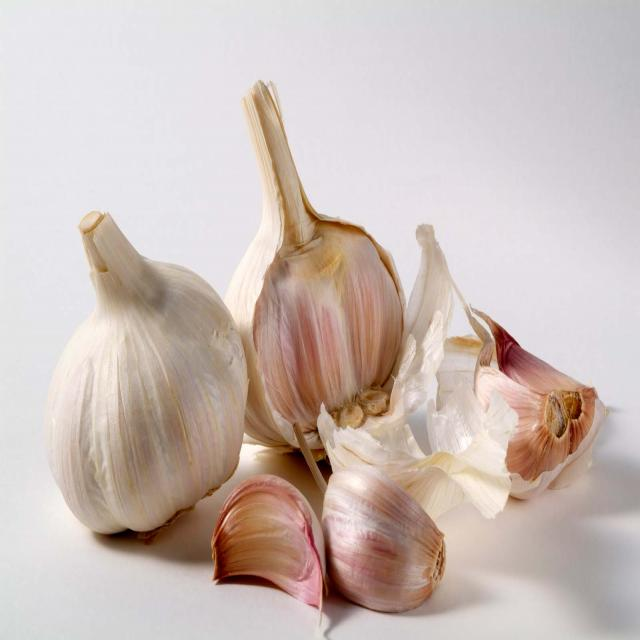garlic: (40, 242, 225, 528), (239, 162, 401, 414), (474, 328, 603, 497), (322, 470, 448, 612), (213, 468, 321, 616)
